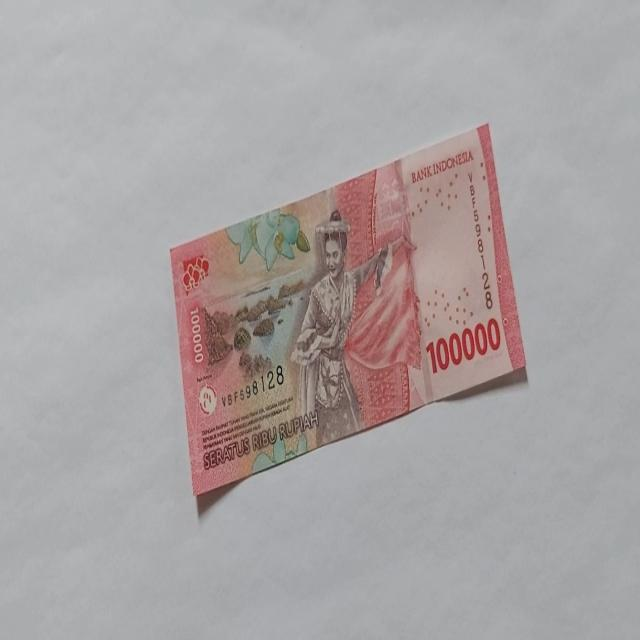seratus ribu rupiah: (168, 121, 528, 497), (289, 208, 393, 436)
